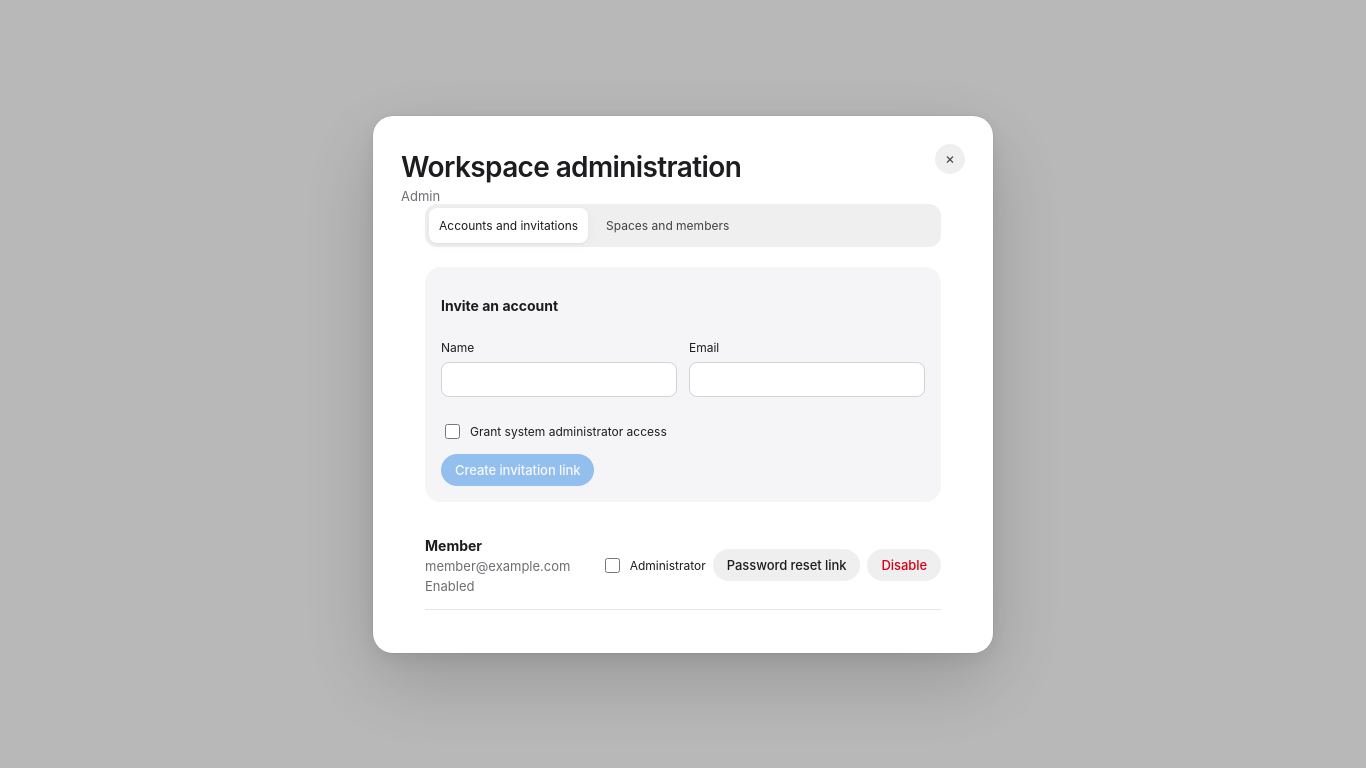
E4 gives account Disable the appropriate visual tone without changing its confirmed PATCH
Click the button "Disable" at (904, 565), box [868, 549, 941, 581]
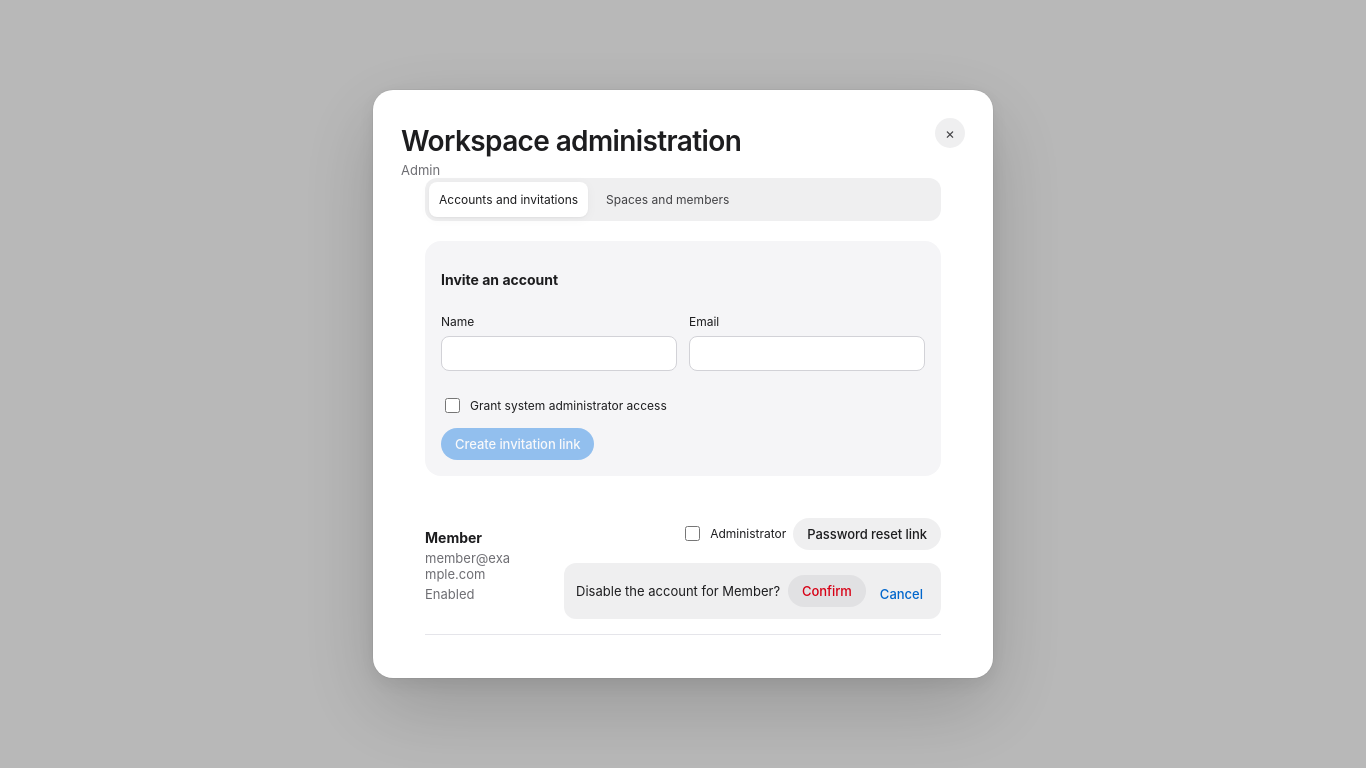
Expected: the button "Confirm" is shown, [788, 575, 866, 607]
Expected: the button "Cancel" is shown
Click the button "Cancel" at (901, 594), box [874, 585, 929, 603]
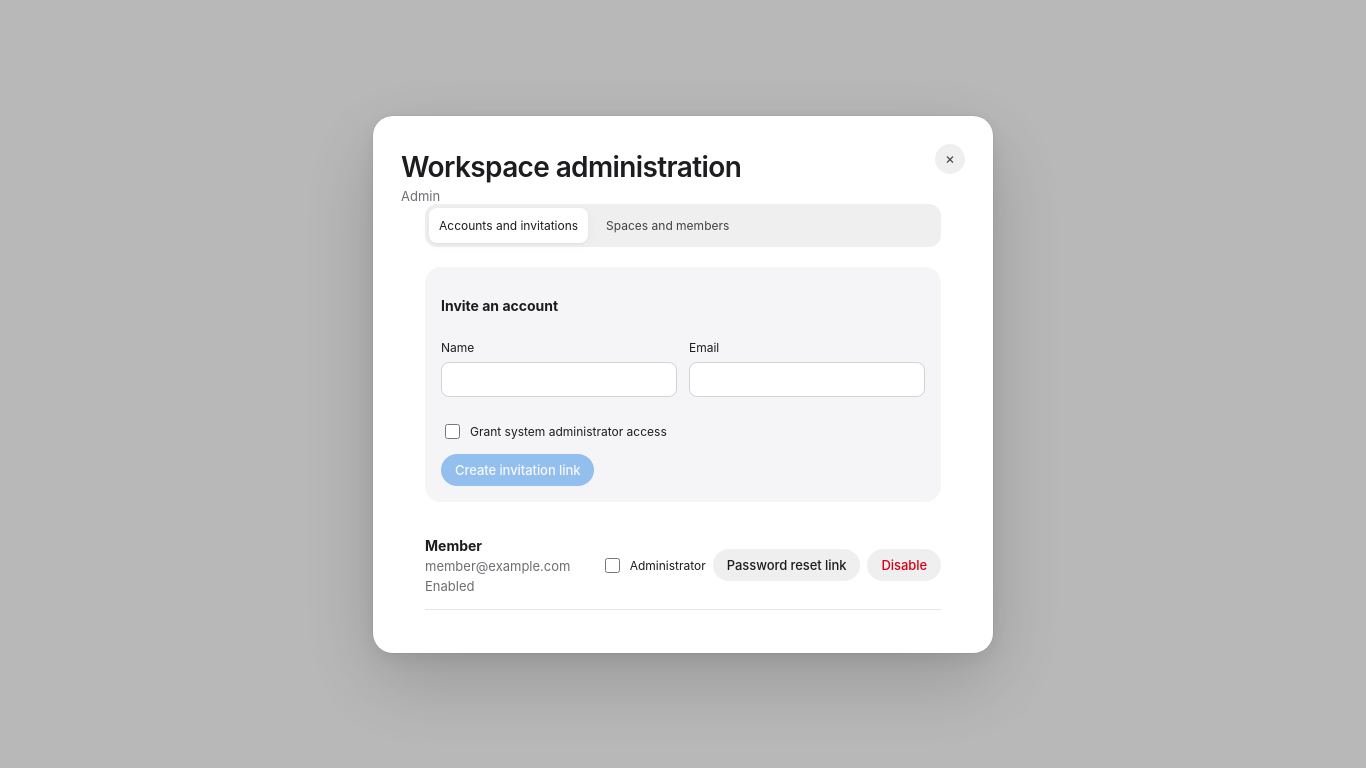
Expected: the element with class "admin-confirm" is gone
Click the button "Disable" at (904, 565), box [868, 549, 941, 581]
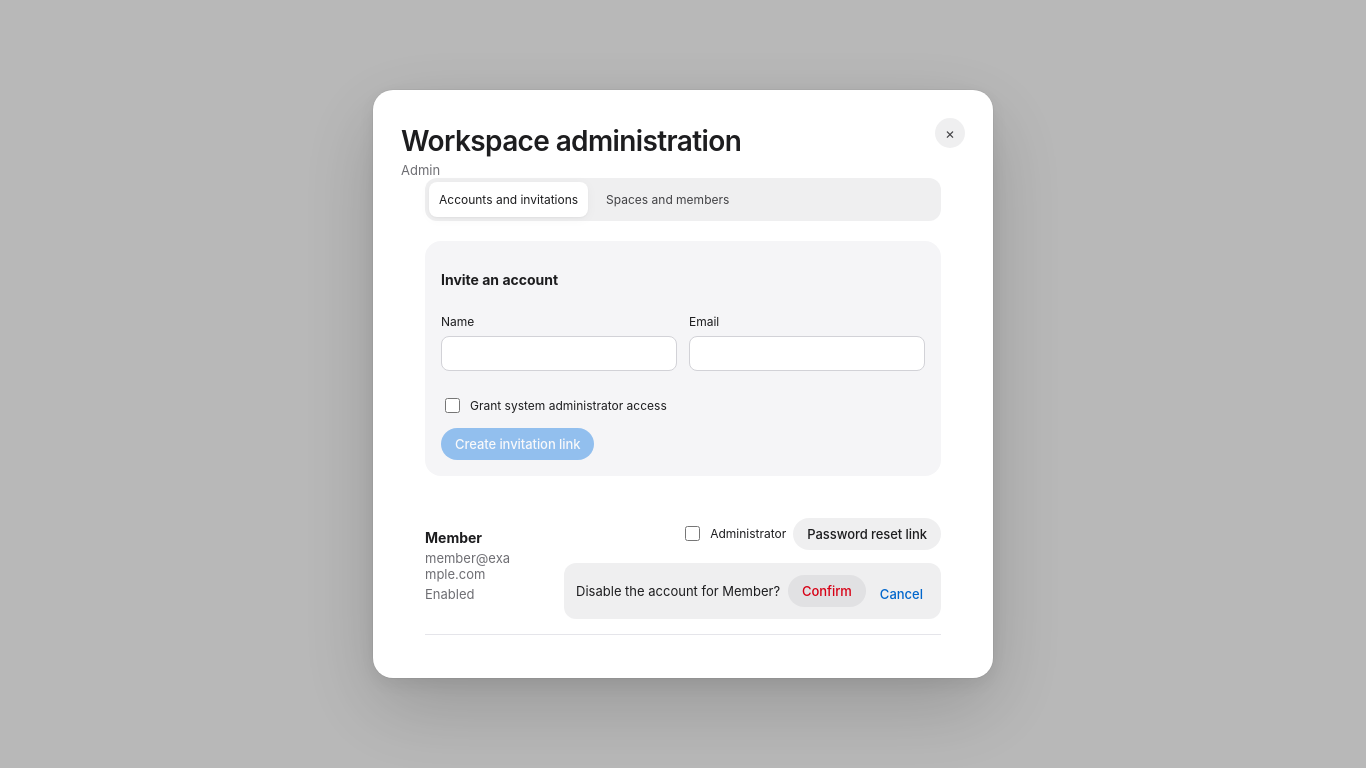
Click the button "Confirm" at (827, 591), box [788, 575, 866, 607]
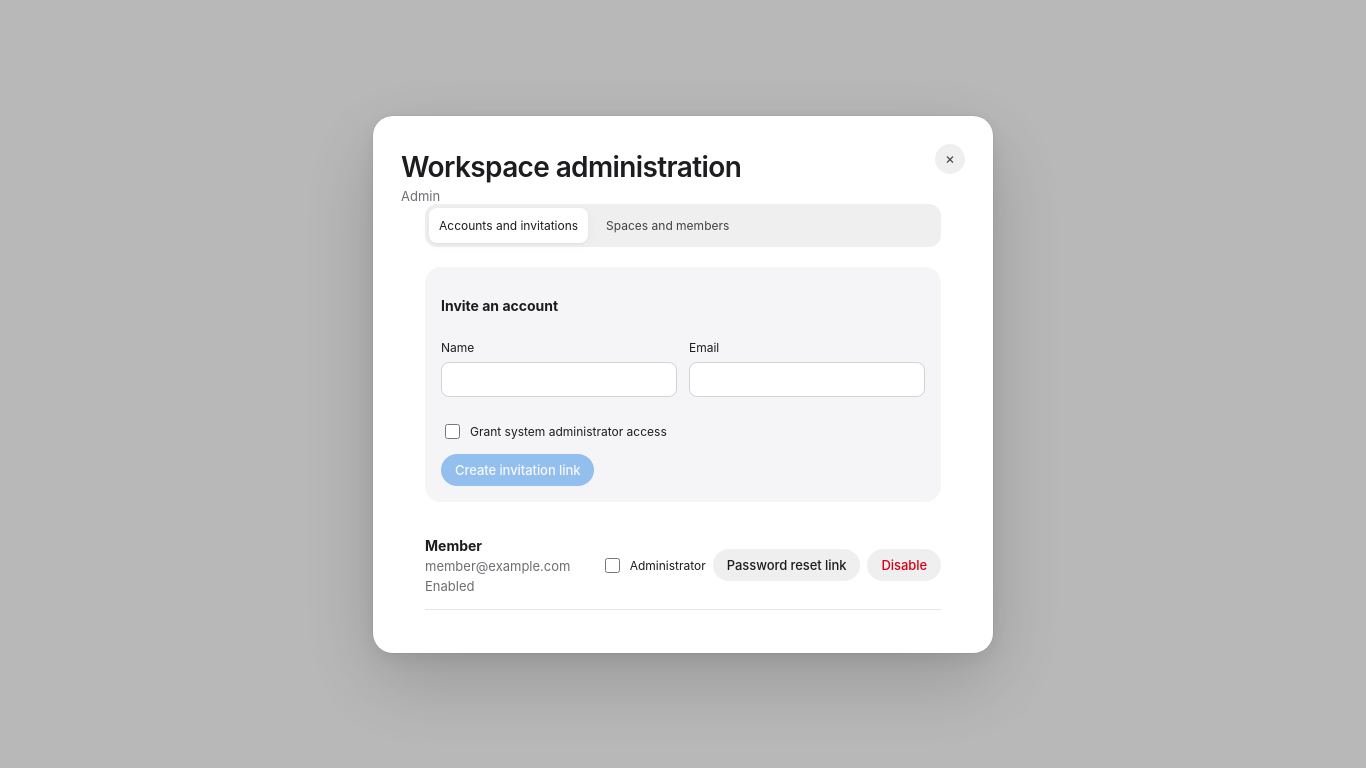
Expected: the element with class "admin-confirm" is gone
